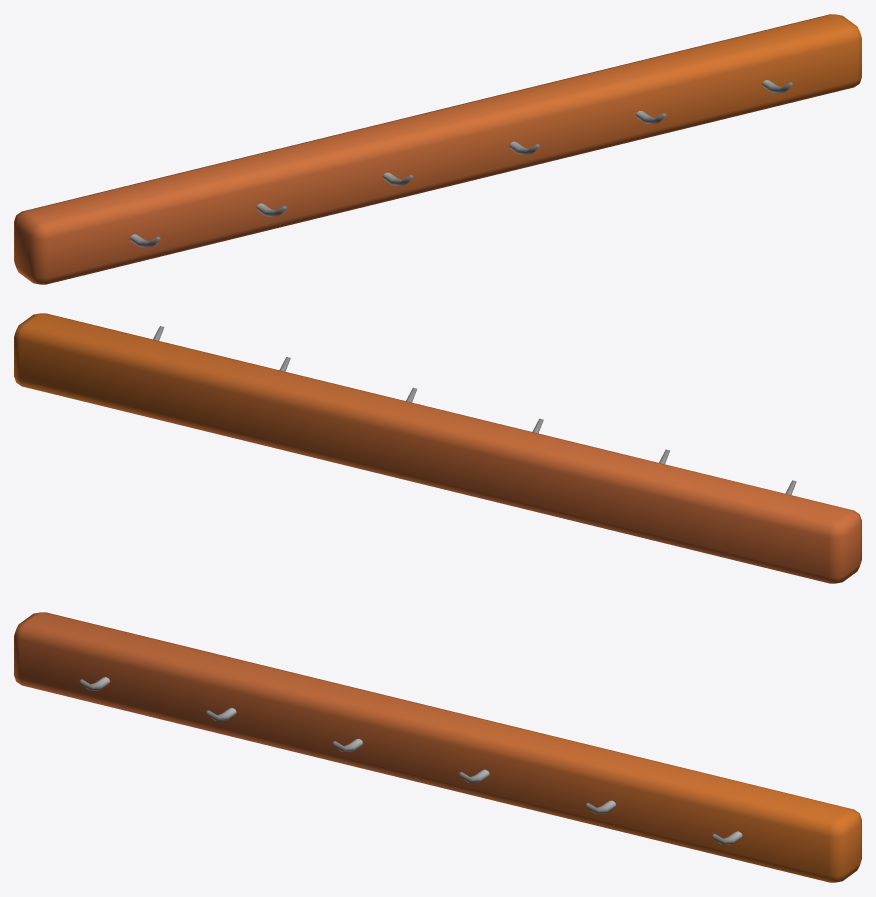
The model's file is Utensil Rack_2.fbx.
The picture shows the model from 3 angles, top to bottom: view 1: azimuth 30°, elevation 25°; view 2: azimuth 150°, elevation 25°; view 3: azimuth 330°, elevation 25°; orthographic projection.
Visible parts, largest first — view 1: Utensil Rack_2; view 2: Utensil Rack_2; view 3: Utensil Rack_2.
Part boxes in pixels (x1=…): Utensil Rack_2: x1=14, y1=14, x2=861, y2=284; Utensil Rack_2: x1=14, y1=313, x2=861, y2=583; Utensil Rack_2: x1=14, y1=612, x2=861, y2=882.
Size of the model in its own units: 0.7451 by 0.0536 by 0.0831.
